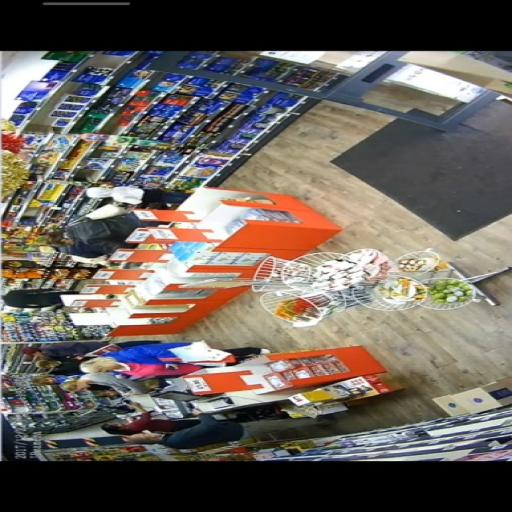workers: (56, 373, 199, 417), (94, 342, 269, 371)
